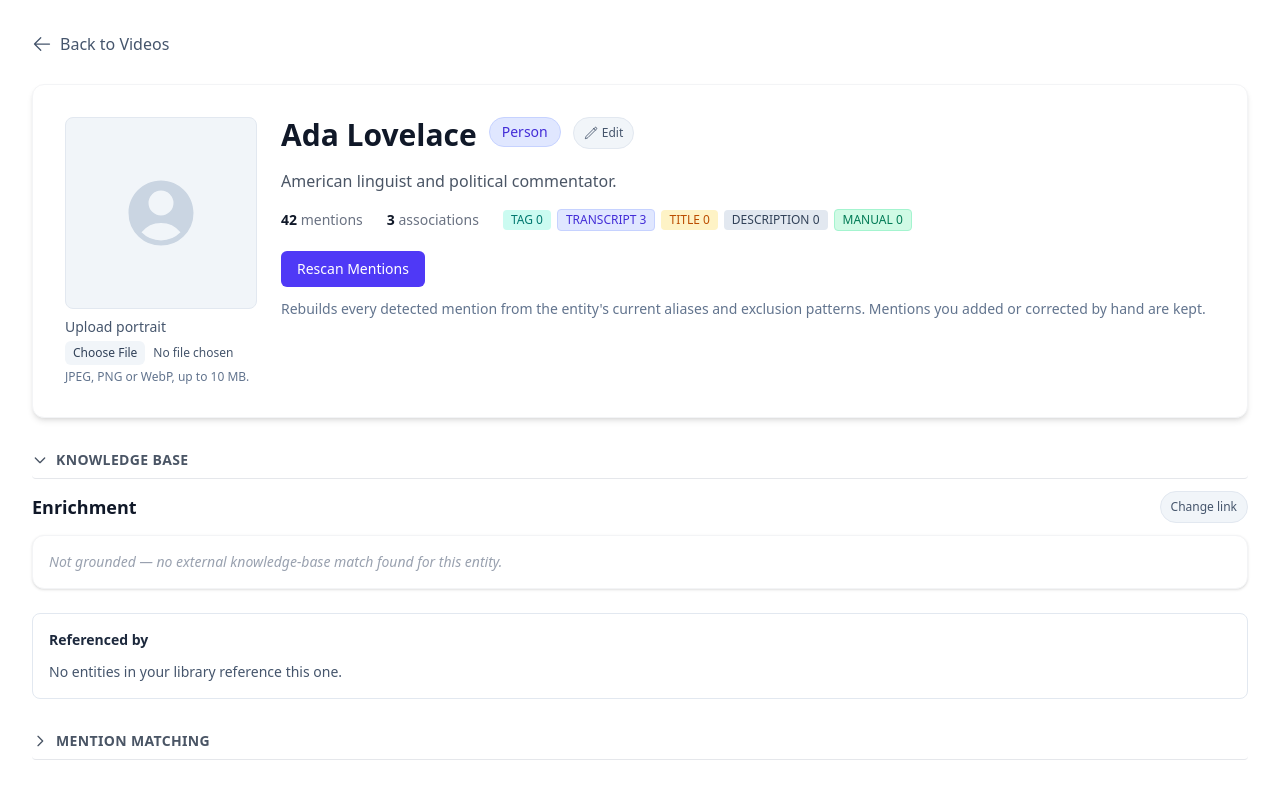
it: AddAliasForm (inside EntityDetailPage) › Test 2 — Button disabled when input is empty › Add button becomes enabled after typing in the input
Step 1. Click the button "Mention matching" → point(133, 740), box [32, 723, 1248, 760]
(page scrolled)
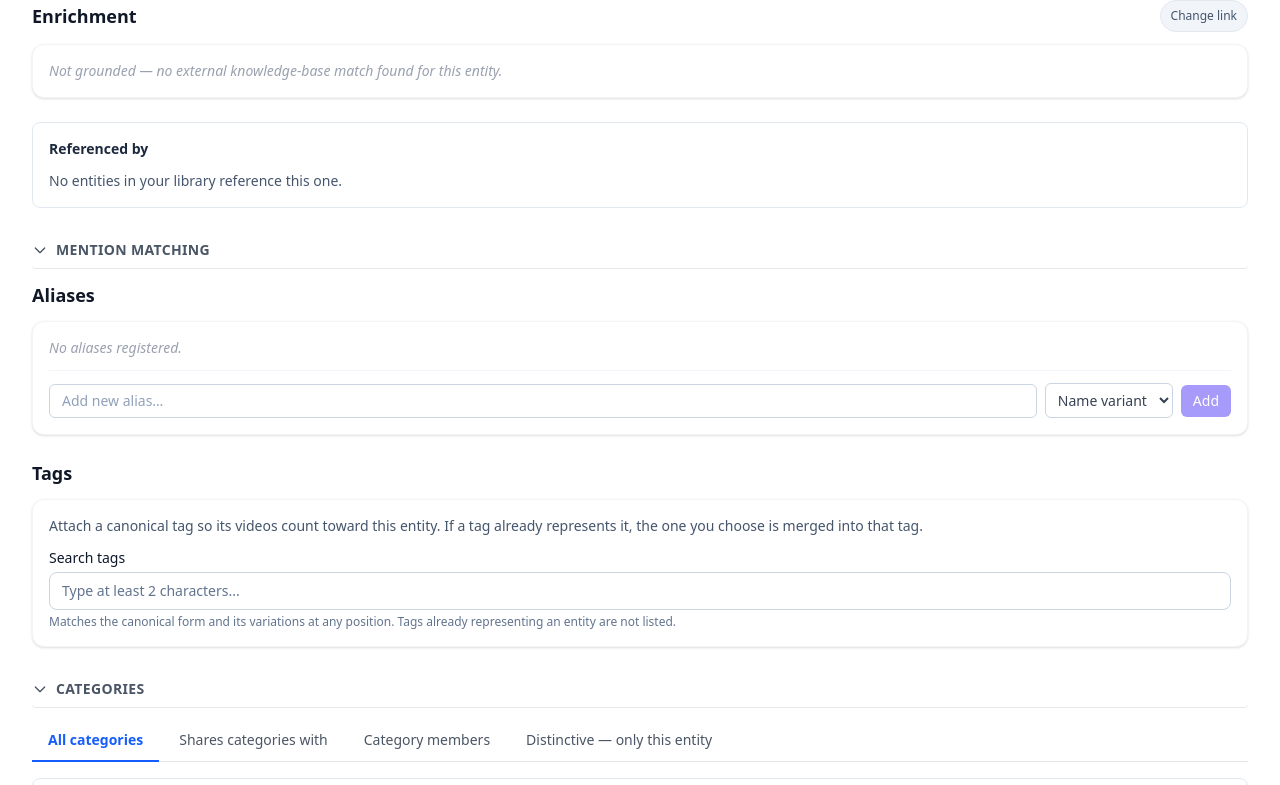
Step 2. Type "Lovelace" into the field named "alias name" → point(543, 400), box [49, 384, 1037, 418]
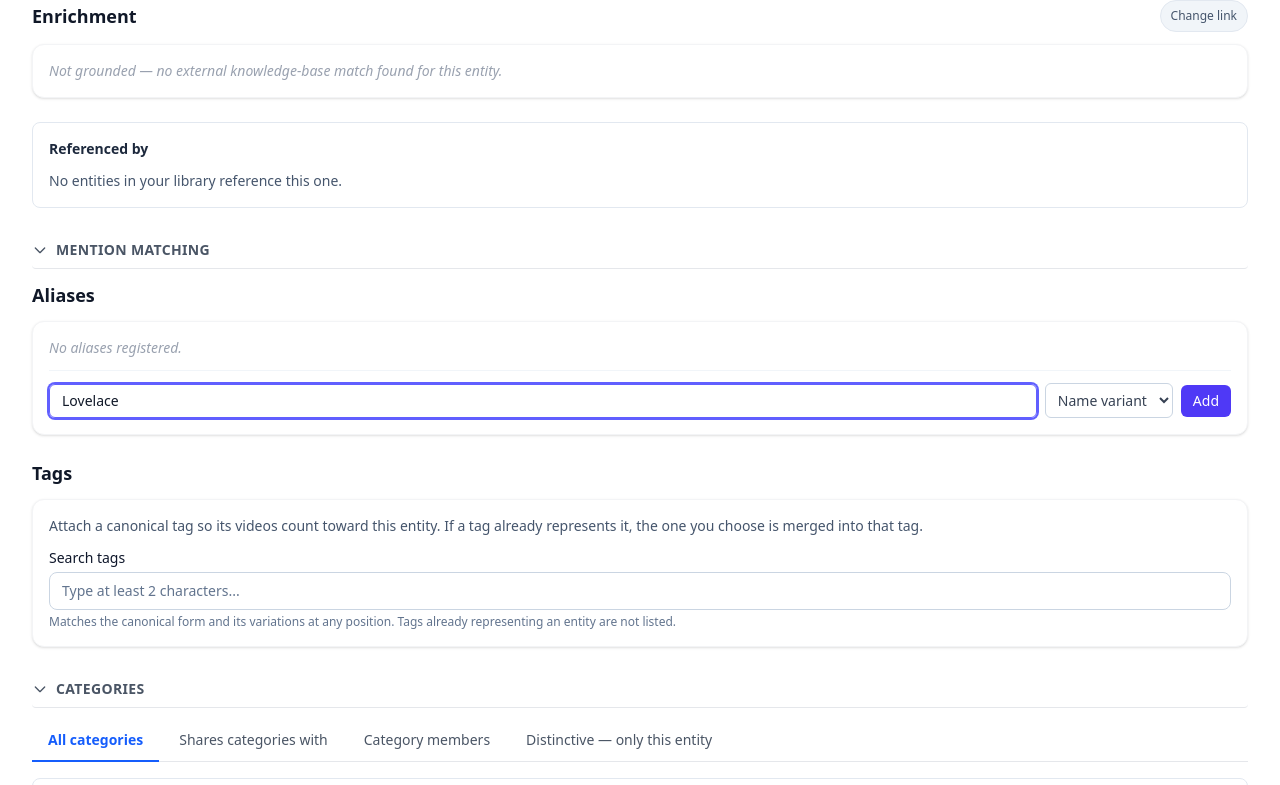
Result: the button "Add" is enabled at [1181, 384, 1231, 416]
